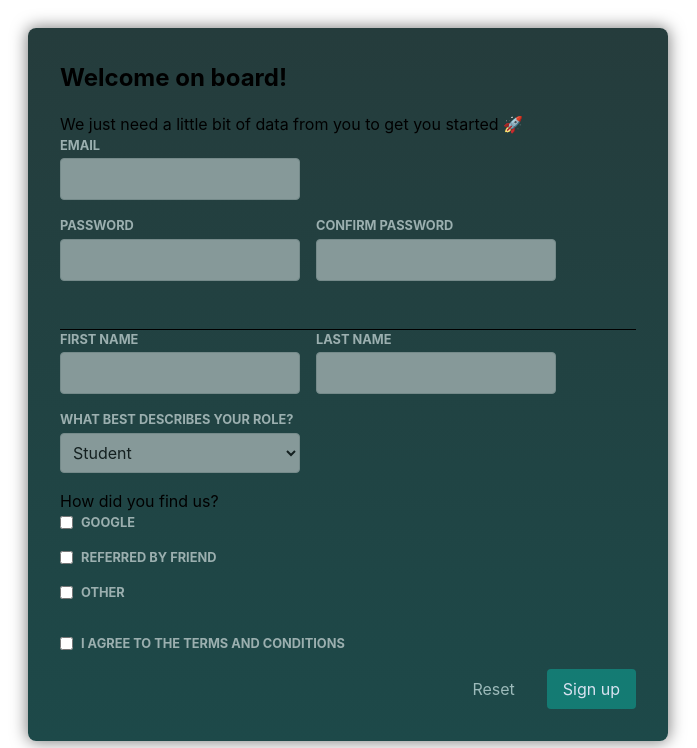
Test: SignUp › password confirmation › shows an error and does not log the data when the passwords differ
The image size is (697, 748).
Type "secret1" into the password field labelled "Password" at (180, 260), box x1=60 y1=239 x2=300 y2=281
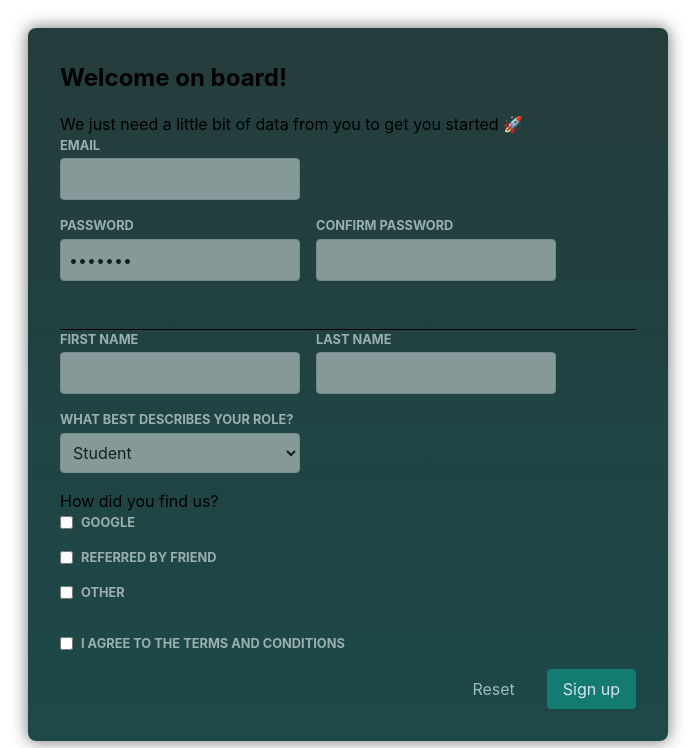
Type "secret2" into the password field labelled "Confirm Password" at (436, 260), box x1=316 y1=239 x2=556 y2=281
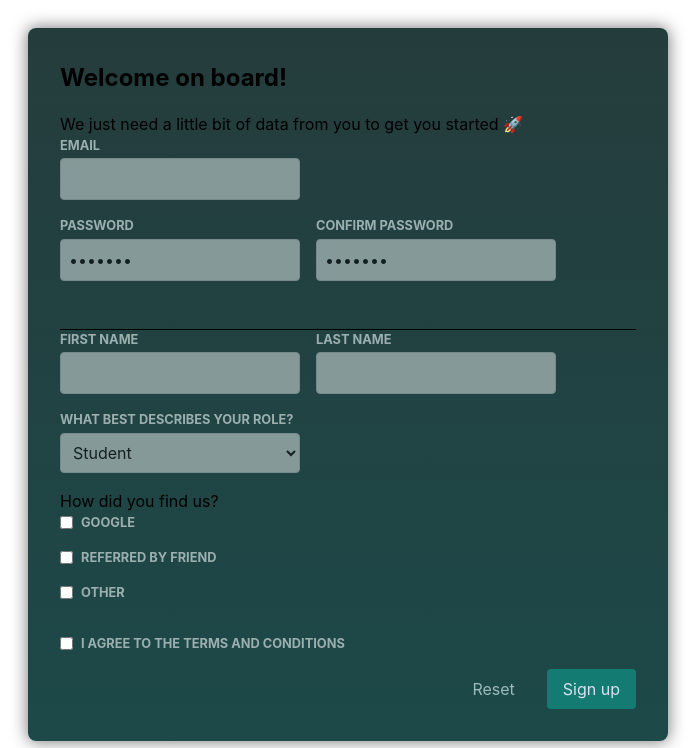
Submit the form
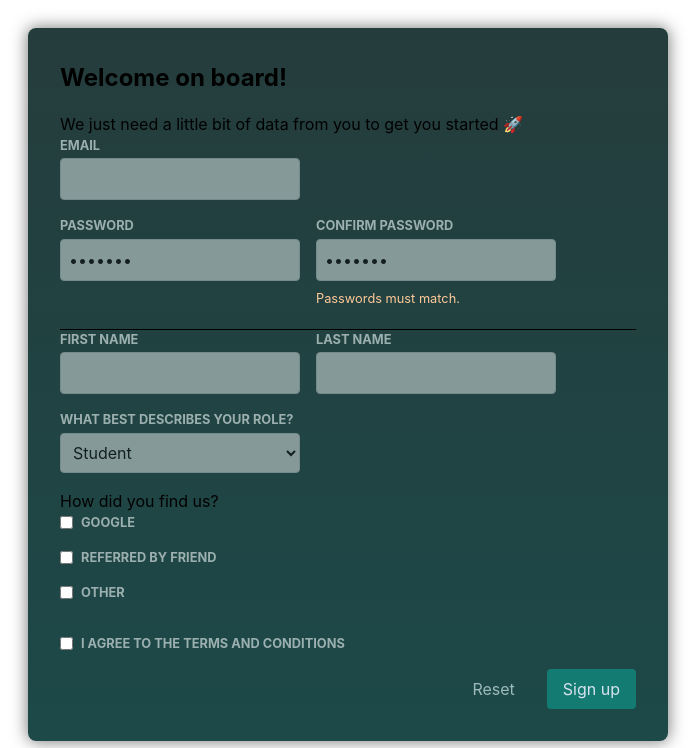
expect the text "Passwords must match." is shown: met, box x1=316 y1=291 x2=460 y2=306
